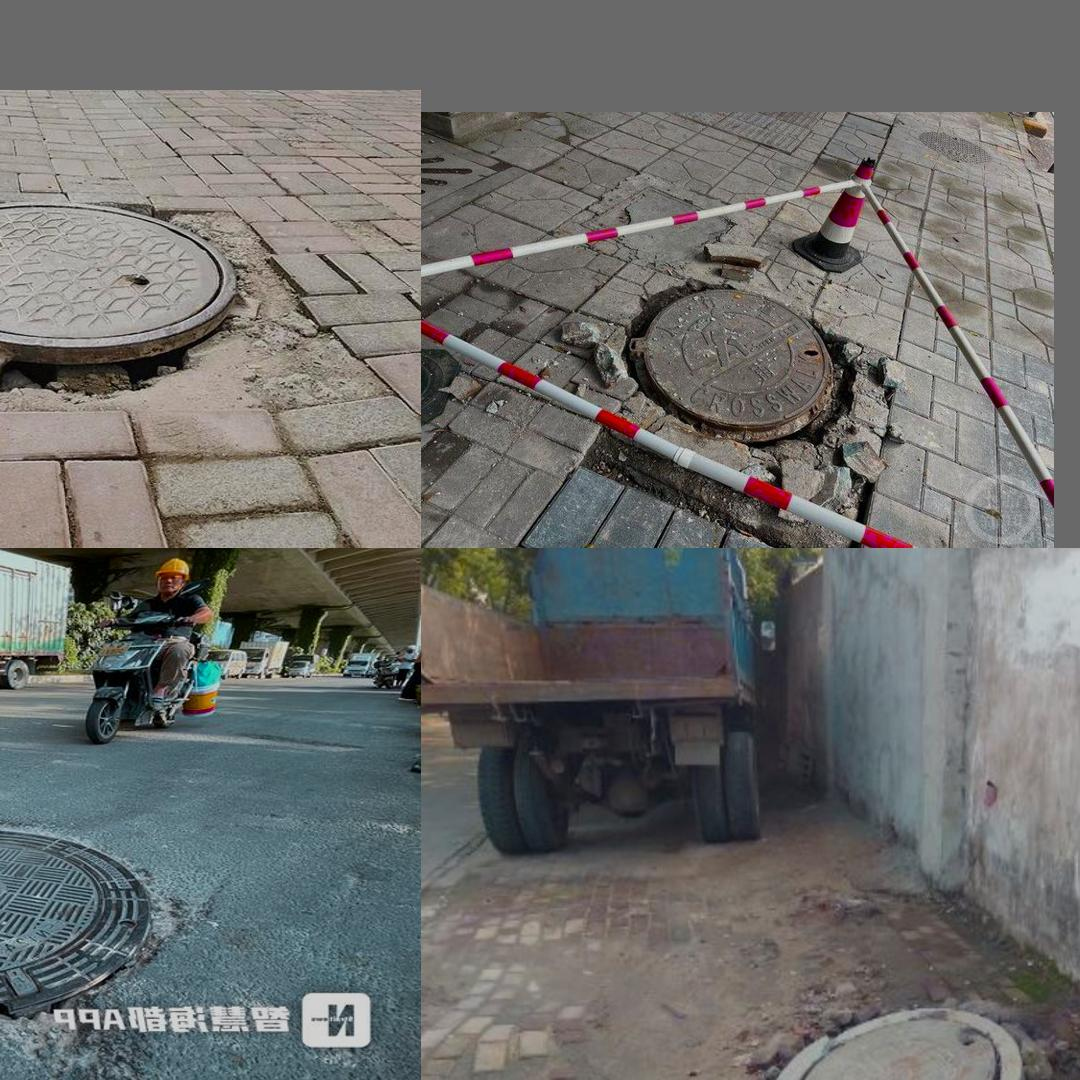circle: (577, 262, 886, 533), (0, 201, 377, 410), (0, 797, 224, 1041), (713, 1004, 1028, 1080)
